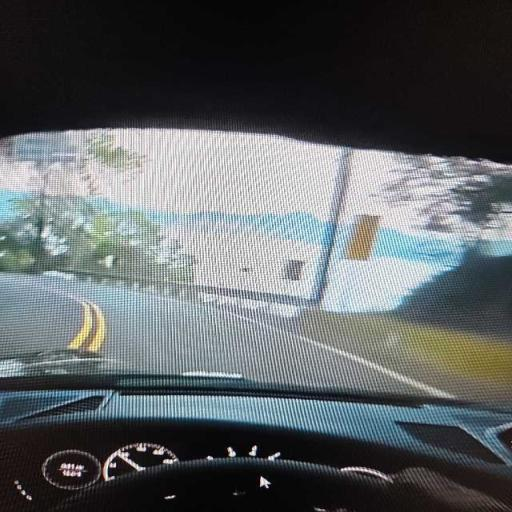lane: (0, 276, 449, 396), (0, 274, 83, 357)
